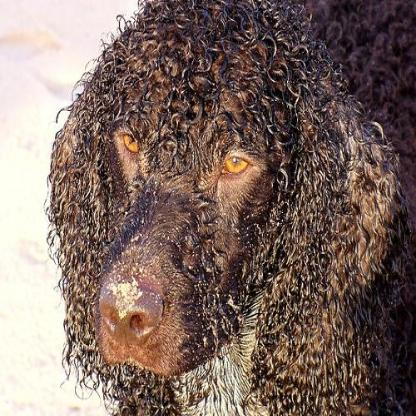Irish_water_spaniel: (42, 1, 414, 414)
